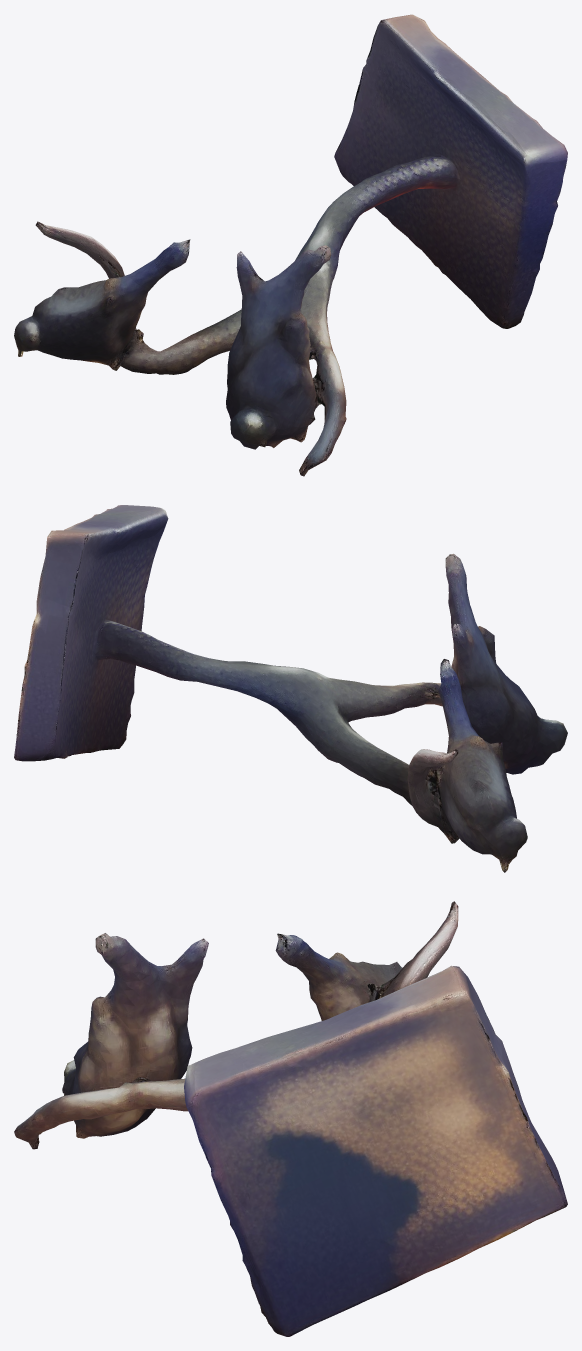
The model's file is obj05_baseline.glb.
3 views of the same model, one above another, from view 1: azimuth 30°, elevation 25°; view 2: azimuth 150°, elevation 25°; view 3: azimuth 270°, elevation 25° (orthographic). The views are drawn at different scales.
Parts seen in each view (by area): view 1: n1; view 2: n1; view 3: n1.
Boxes of the visible parts, <box> form: n1: <box>14,14,567,476</box>; n1: <box>14,505,567,872</box>; n1: <box>14,901,567,1336</box>.
Bounding box in the file's own units: 0.9177 × 0.5079 × 0.7613.
1 material, 1 textured.
